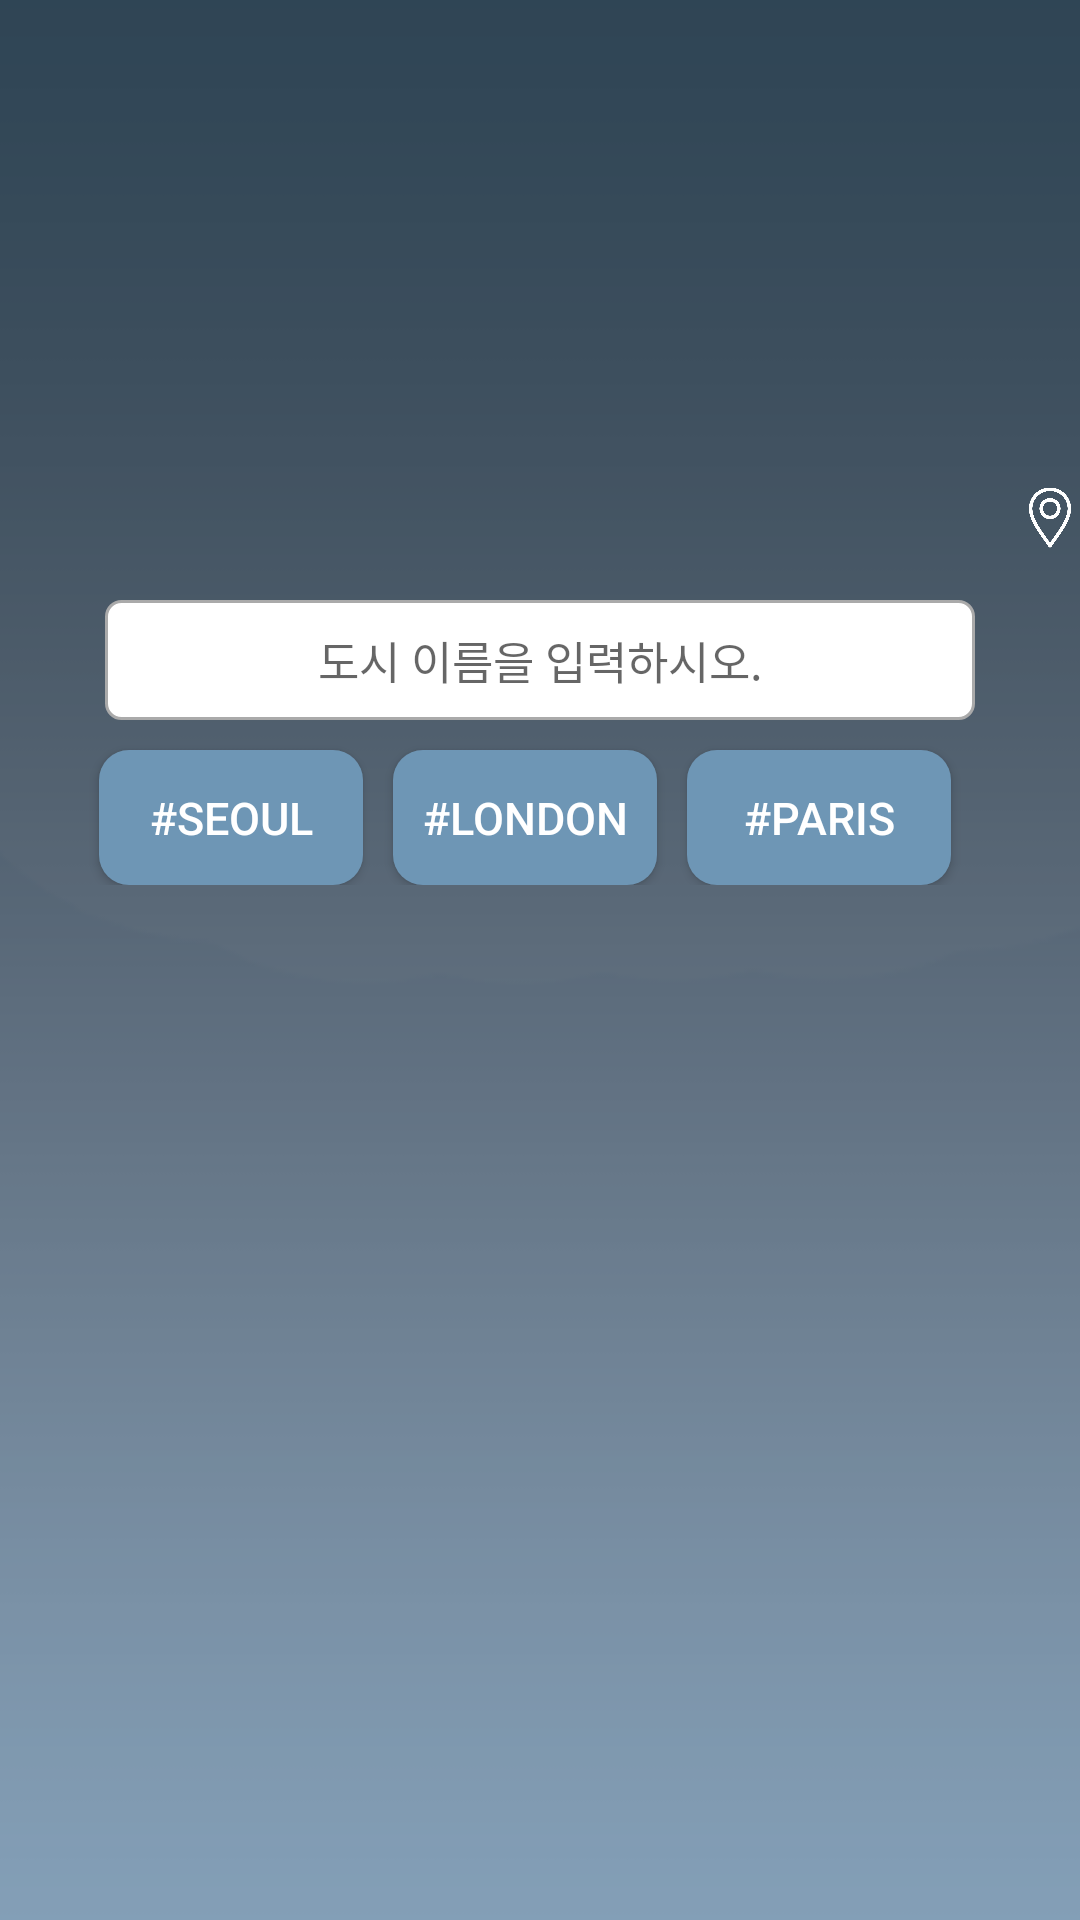

Locate icon controls on the screen. Image size 1080 x 1920, boxes as (x1, y1, x2, y2).
location: (1029, 488, 1071, 548)
